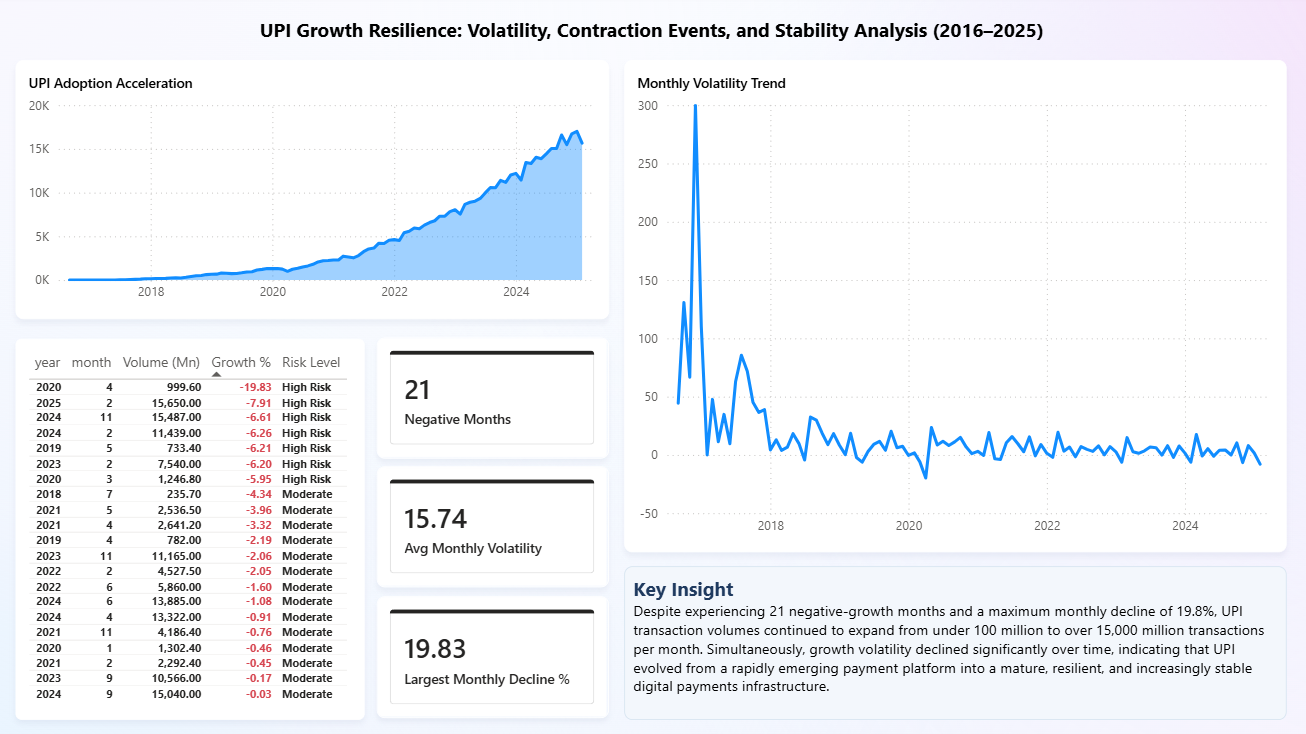

The dashboard page shown, as its layout file describes it:
{"tool":"powerbi","page":{"name":"Growth Resilience Analysis","canvas":[1280,720],"ordinal":4},"visuals":[{"type":"cardVisual","fields":{"Data":["Monthly Growth.Peak Volatility"]},"box":[370.7,456.6,226.8,118.3],"z":0},{"type":"cardVisual","fields":{"Data":["Monthly Growth.Negative Months"]},"box":[370.7,330.5,226.8,118.3],"z":1000},{"type":"areaChart","title":"UPI Adoption Acceleration","fields":{"Y":["Avg(Monthly Growth.volume_millions)"],"Category":["Monthly Growth.Date"]},"box":[17.1,58.5,580.5,253.7],"z":2000},{"type":"lineChart","title":"Monthly Volatility Trend","fields":{"Y":["Avg(Monthly Growth.mom_growth_pct)"],"Category":["Monthly Growth.Date"]},"box":[612.4,58.8,648.2,481.8],"z":3000},{"type":"tableEx","fields":{"Values":["Monthly Growth.year","Monthly Growth.month","Monthly Growth.volume_millions","Monthly Growth.mom_growth_pct","Monthly Growth.Risk Tag"]},"box":[17.1,331.7,341.5,373.2],"z":4000},{"type":"textbox","box":[244.6,11,789.9,36.7],"z":5000},{"type":"cardVisual","fields":{"Data":["Monthly Growth.Largest Monthly Decline %"]},"box":[370.7,583.4,226.8,119.5],"z":6000},{"type":"textbox","box":[612.6,553.9,648.1,150.4],"z":7000}]}

Visuals, with their boxes in screenshot pixels (x1, y1, x2, y2), scaled from the page's 1280x720 canvas onto the 1306x734 screenshot:
cardVisual - Monthly Growth.Peak Volatility: x1=378, y1=465, x2=610, y2=586
cardVisual - Monthly Growth.Negative Months: x1=378, y1=337, x2=610, y2=458
"UPI Adoption Acceleration" areaChart: x1=17, y1=60, x2=610, y2=318
"Monthly Volatility Trend" lineChart: x1=625, y1=60, x2=1286, y2=551
tableEx - Monthly Growth.year x Monthly Growth.month: x1=17, y1=338, x2=366, y2=719
textbox: x1=250, y1=11, x2=1056, y2=49
cardVisual - Monthly Growth.Largest Monthly Decline %: x1=378, y1=595, x2=610, y2=717
textbox: x1=625, y1=565, x2=1286, y2=718
